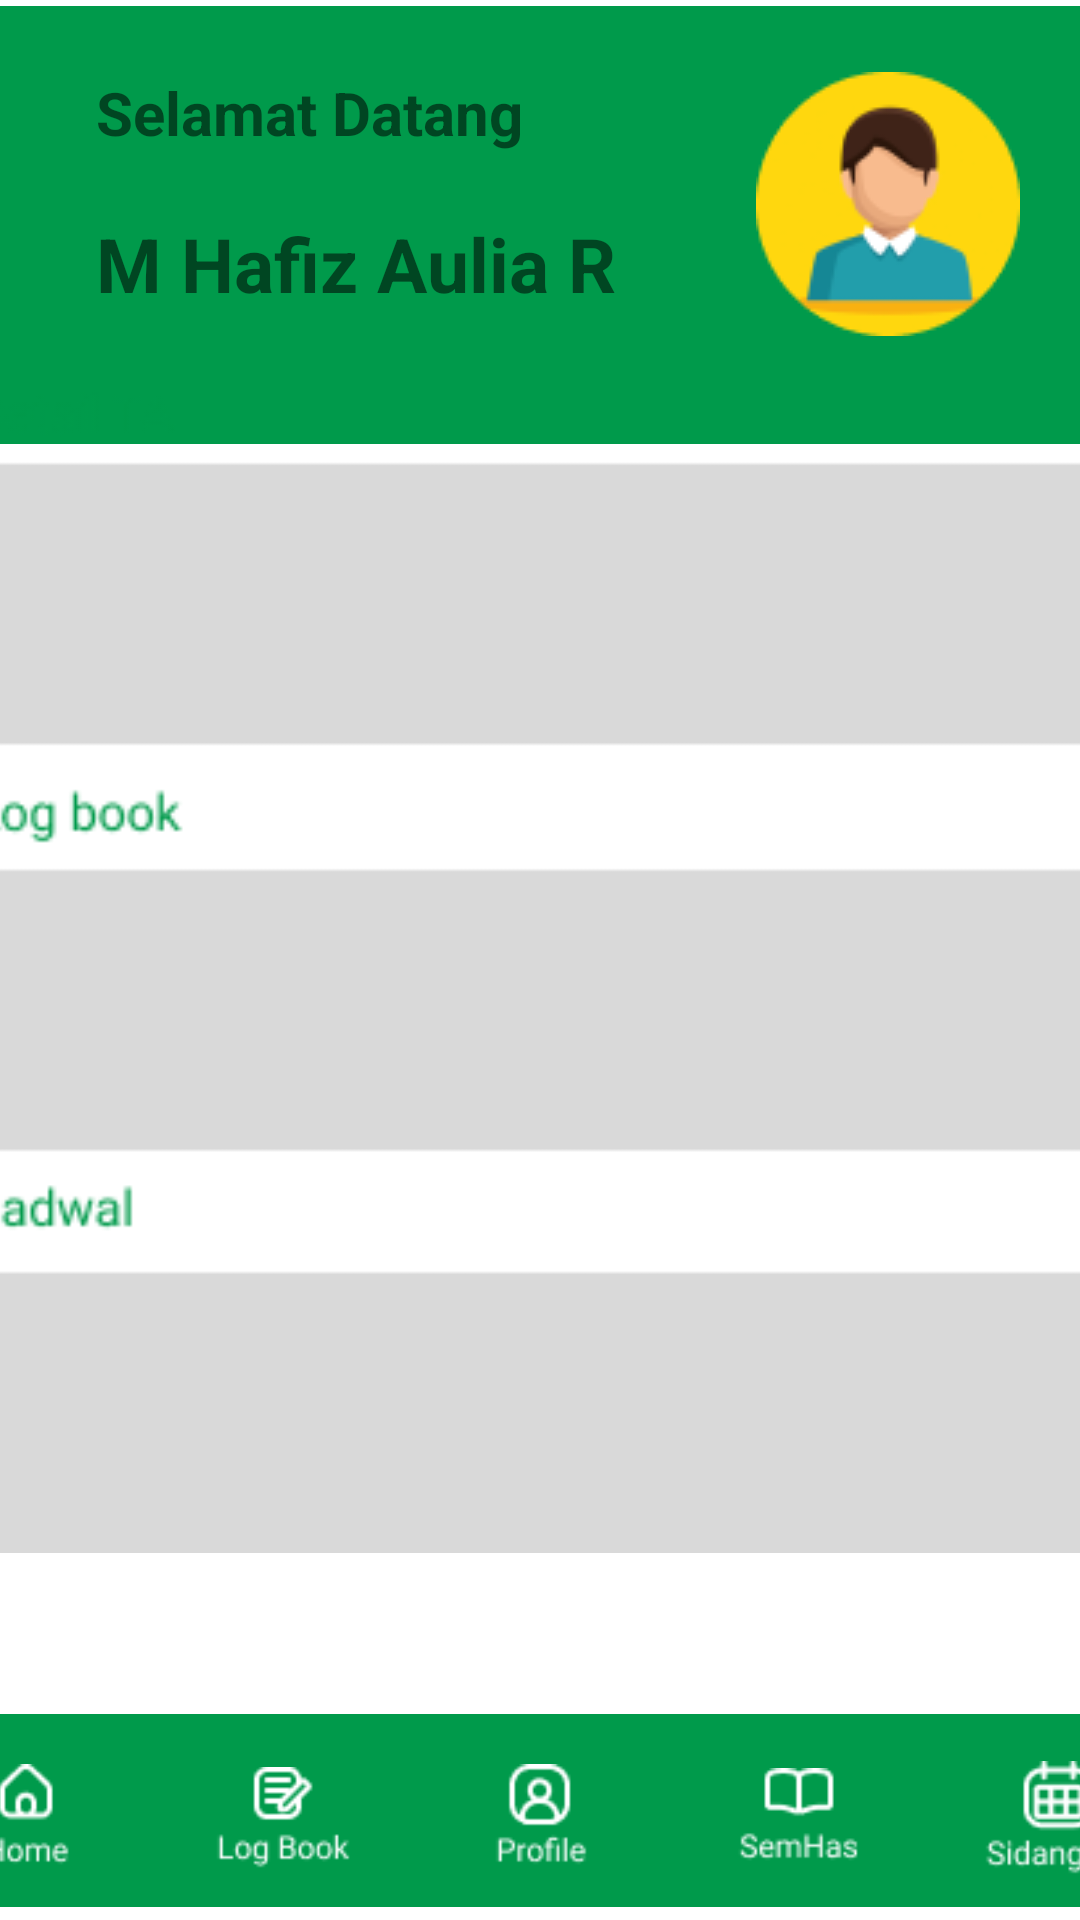

Where to tap for icons on this 1080px×1920px app screen, as [x,y]:
profil: [888,204]
